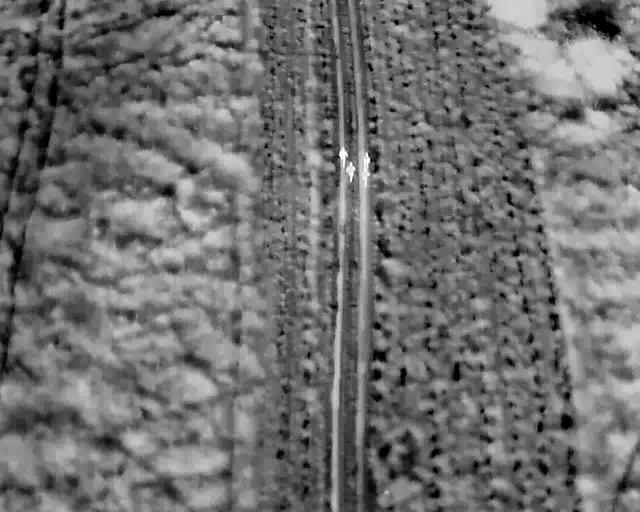person: (345, 161, 356, 183), (359, 168, 370, 189), (338, 147, 348, 168), (362, 152, 371, 171)
